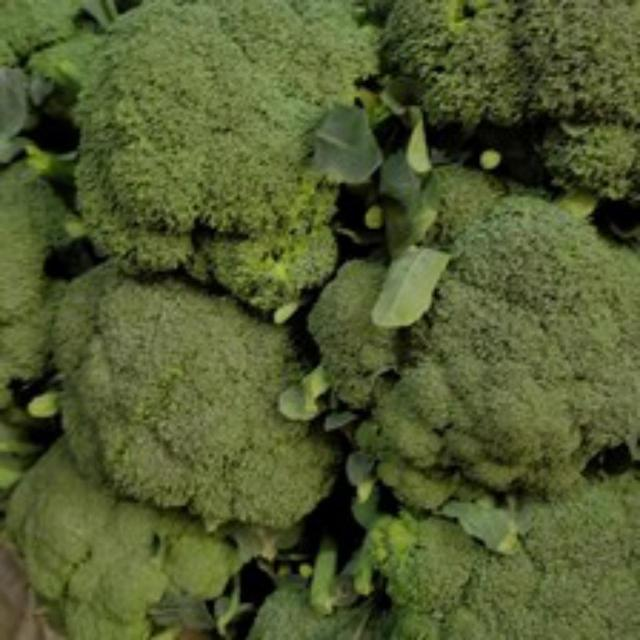broccoli: (75, 0, 386, 348)
